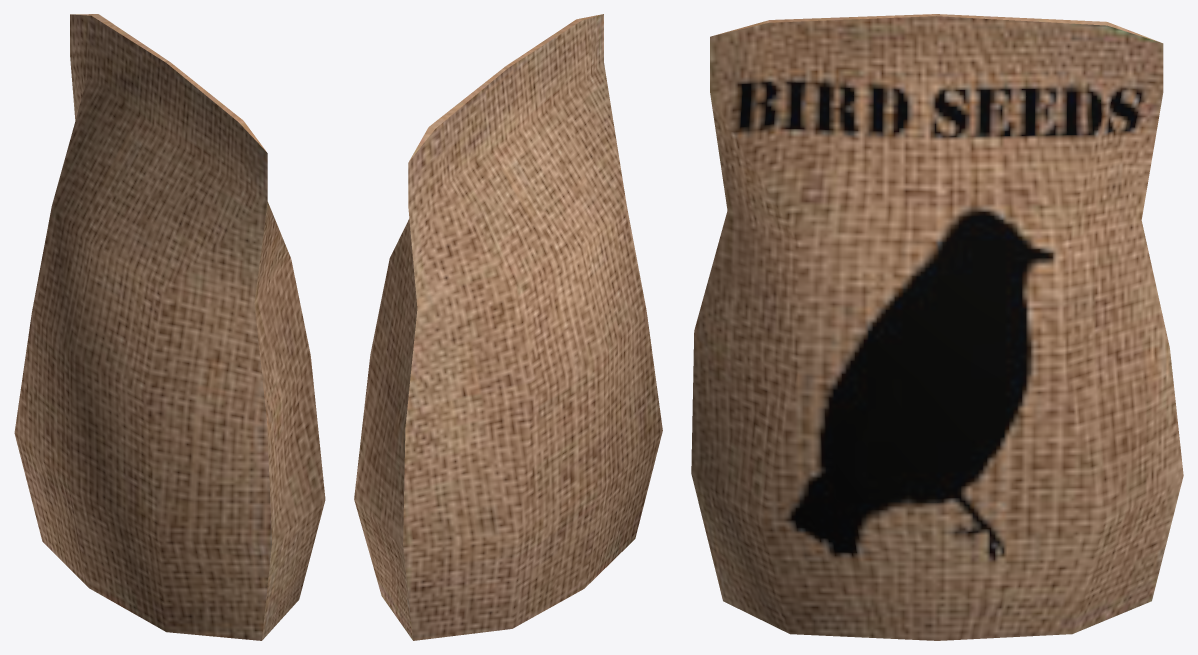
Rendered from birdseed.FBX.
3 views of the same model, side by side, from view 1: azimuth 30°, elevation 25°; view 2: azimuth 150°, elevation 25°; view 3: azimuth 270°, elevation 25° (orthographic). The views are drawn at different scales.
Parts seen in each view (by area): view 1: Box001; view 2: Box001; view 3: Box001.
Boxes of the visible parts, x1,y1,x2,y2 form: Box001: (14, 14, 325, 640); Box001: (354, 14, 662, 640); Box001: (691, 14, 1183, 640).
Bounding box in the file's own units: 22.31 × 58.61 × 42.4.
